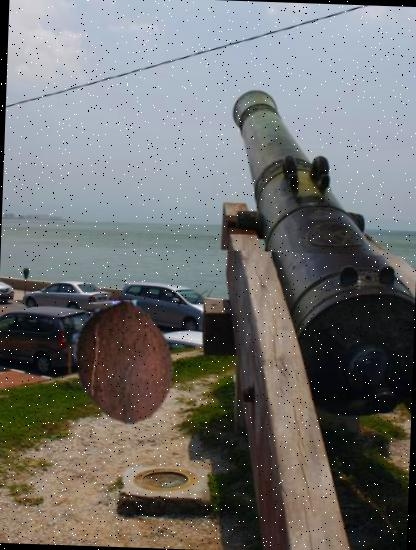Cocos: (59, 298, 188, 427)
